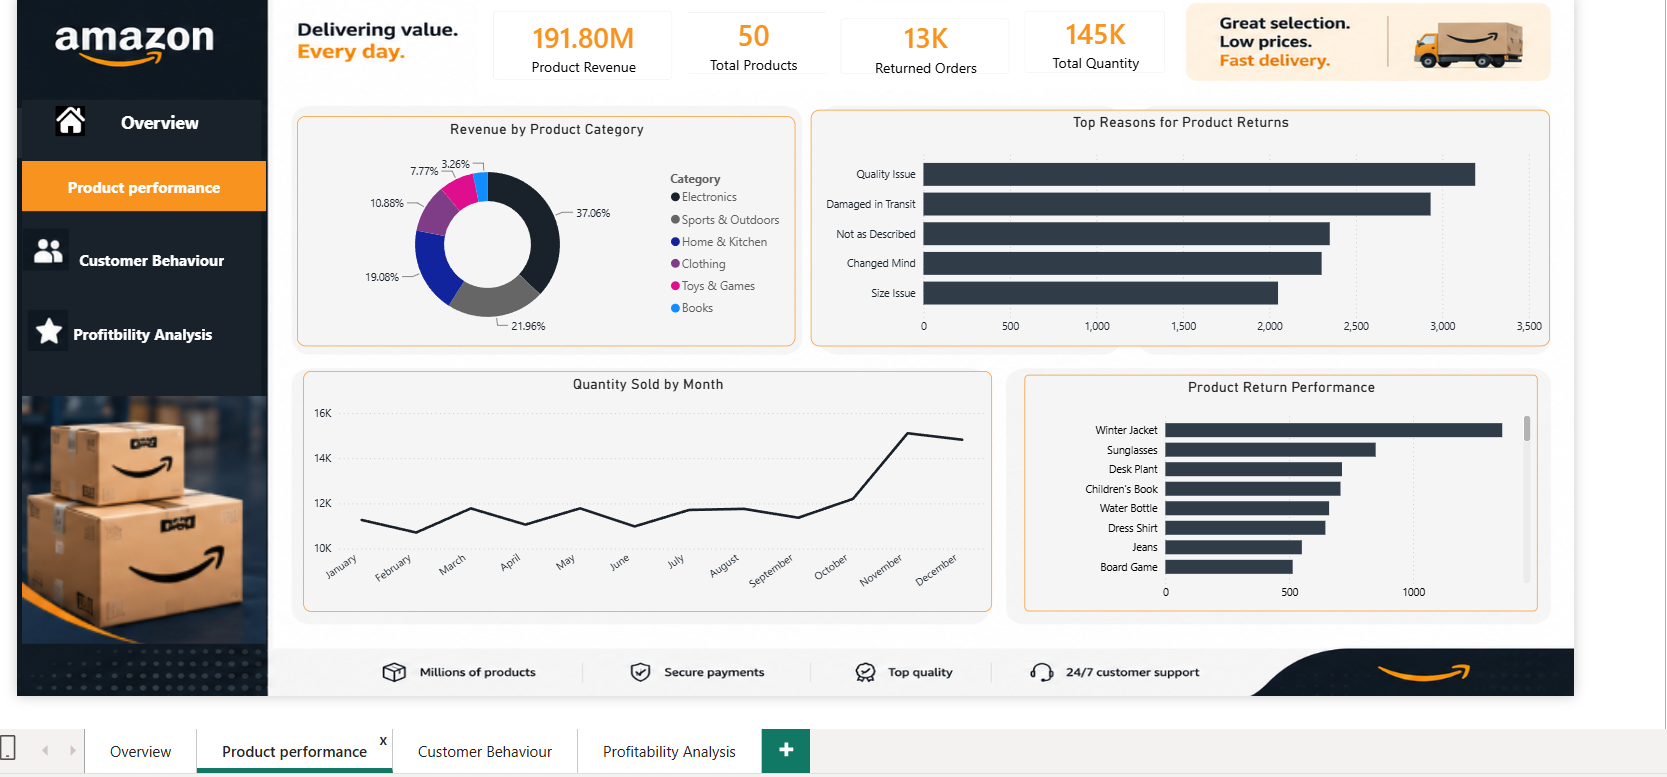

This screenshot's page, from the dashboard's own definition file:
{"tool":"powerbi","page":{"name":"Product performance","canvas":[1780,800],"ordinal":1},"visuals":[{"type":"donutChart","title":"Revenue by Product Category","fields":{"Category":["amzon sale dataset.Category"],"Y":["Measure.Product Revenue"]},"box":[319.5,136.7,569.8,263.5],"z":0},{"type":"lineChart","title":"Quantity Sold by Month","fields":{"Category":["Calendar.Month"],"Y":["Sum(amzon sale dataset.Quantity)"]},"box":[327.7,428.2,787.2,275],"z":1000},{"type":"cardVisual","fields":{"Data":["Measure.Total Products"]},"box":[732.9,1.6,216.2,105.9],"z":2000},{"type":"cardVisual","fields":{"Data":["Measure.Total Quantity"]},"box":[1134.7,0,195.3,105.7],"z":3000},{"type":"cardVisual","fields":{"Data":["Measure.Product Revenue"]},"box":[526.5,0,239.9,113.1],"z":4000},{"type":"cardVisual","fields":{"Data":["Measure.Returned Orders"]},"box":[923.9,8.2,227.3,98.8],"z":5000},{"type":"actionButton","box":[47.1,165.7,231.7,58.3],"z":6000},{"type":"clusteredBarChart","title":"Top Reasons for Product Returns","fields":{"Category":["amzon sale dataset.ReturnReason"],"Y":["CountNonNull(amzon sale dataset.ReturnReason)"]},"box":[907.5,130.1,844.9,270.1],"z":7000},{"type":"shape","box":[5.7,118.6,273.3,350],"z":8000},{"type":"actionButton","box":[5.2,189,278.9,57.3],"z":9000},{"type":"actionButton","box":[66.5,258,173.6,84.4],"z":10000},{"type":"actionButton","box":[46.9,342.8,193.1,86.9],"z":11000},{"type":"actionButton","box":[65.2,99,195.1,89.8],"z":12000},{"type":"image","box":[3.9,265.9,57.9,48.3],"z":13000},{"type":"image","box":[5.2,358.4,59.3,46.9],"z":14000},{"type":"image","box":[32.6,126.4,55.7,34.3],"z":15000},{"type":"image","box":[5.8,457,278.9,282.8],"z":16000},{"type":"clusteredBarChart","title":"Product Return Performance","fields":{"Category":["Amazon Business Insights.ProductName"],"Y":["Measure.Returned Orders"]},"box":[1151.2,433.1,586.3,270.1],"z":17000}]}

Visuals, with their boxes on the page's 1780x800 design canvas (x1, y1, x2, y2). These are canvas units, not pixel positions in the 1667x777 screenshot, which may show the page scaled, cropped or inside an application window:
"Revenue by Product Category" donutChart: box(320, 137, 889, 400)
"Quantity Sold by Month" lineChart: box(328, 428, 1115, 703)
cardVisual - Measure.Total Products: box(733, 2, 949, 108)
cardVisual - Measure.Total Quantity: box(1135, 0, 1330, 106)
cardVisual - Measure.Product Revenue: box(526, 0, 766, 113)
cardVisual - Measure.Returned Orders: box(924, 8, 1151, 107)
actionButton: box(47, 166, 279, 224)
"Top Reasons for Product Returns" clusteredBarChart: box(908, 130, 1752, 400)
shape: box(6, 119, 279, 469)
actionButton: box(5, 189, 284, 246)
actionButton: box(66, 258, 240, 342)
actionButton: box(47, 343, 240, 430)
actionButton: box(65, 99, 260, 189)
image: box(4, 266, 62, 314)
image: box(5, 358, 64, 405)
image: box(33, 126, 88, 161)
image: box(6, 457, 285, 740)
"Product Return Performance" clusteredBarChart: box(1151, 433, 1738, 703)
